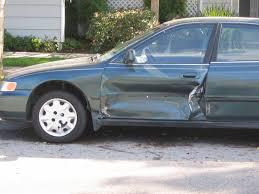doorouter-dent: (102, 59, 205, 125)
